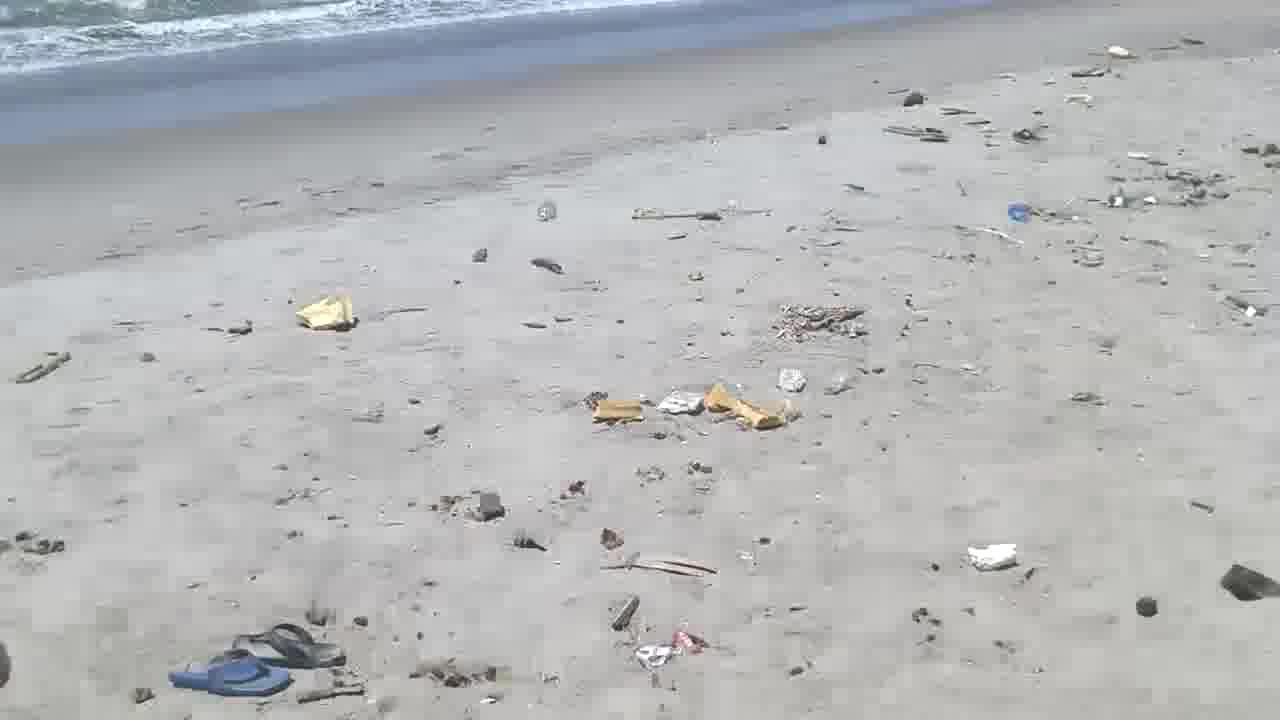obj: (165, 620, 346, 702), (706, 378, 803, 432), (770, 300, 871, 344), (630, 628, 712, 678), (598, 552, 721, 580), (291, 290, 361, 334), (290, 672, 370, 706), (966, 538, 1028, 578), (1220, 563, 1278, 602), (18, 347, 72, 388), (14, 524, 72, 557), (627, 208, 724, 224), (588, 399, 645, 425), (881, 125, 949, 145), (610, 596, 642, 632), (1130, 594, 1160, 624), (1010, 128, 1048, 147), (902, 88, 928, 109)
sand/background: (1, 0, 1279, 207)
